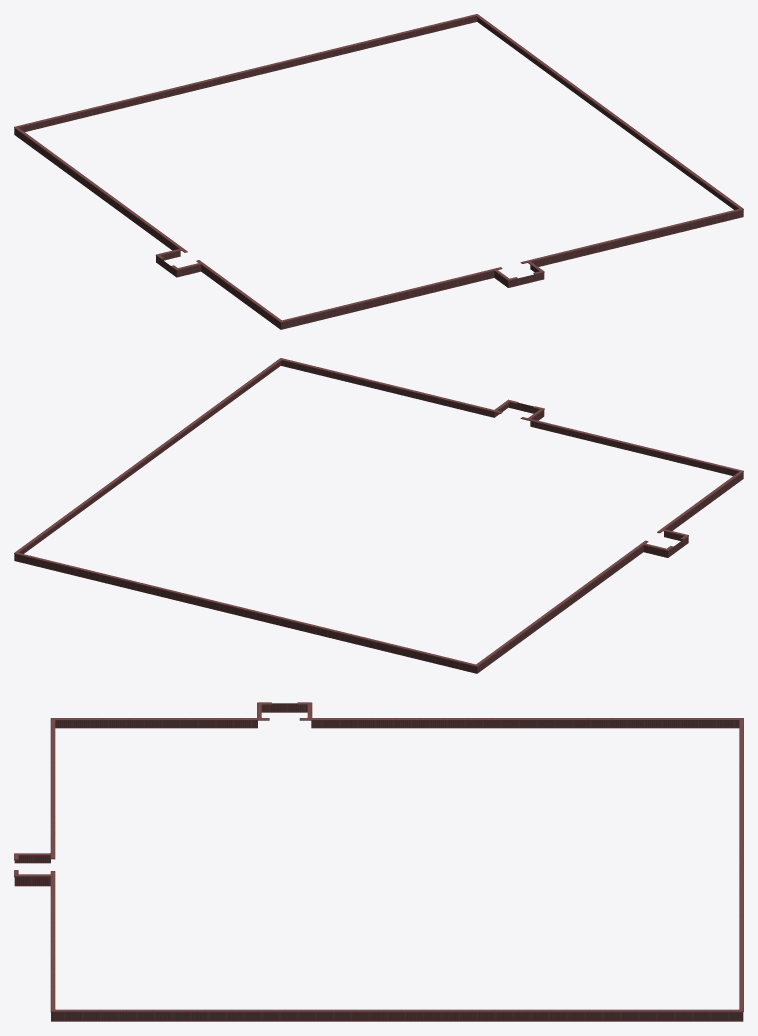
File: 0153_T_ZhenYin_BiaoBian04.glb
3 renders of one model, top to bottom at view 1: azimuth 30°, elevation 25°; view 2: azimuth 150°, elevation 25°; view 3: azimuth 270°, elevation 25°, orthographic. The views are drawn at different scales.
Bounding box in the file's own units: 2.2 × 0.0333 × 2.19.
Materials: 1 (1 with a texture image).
